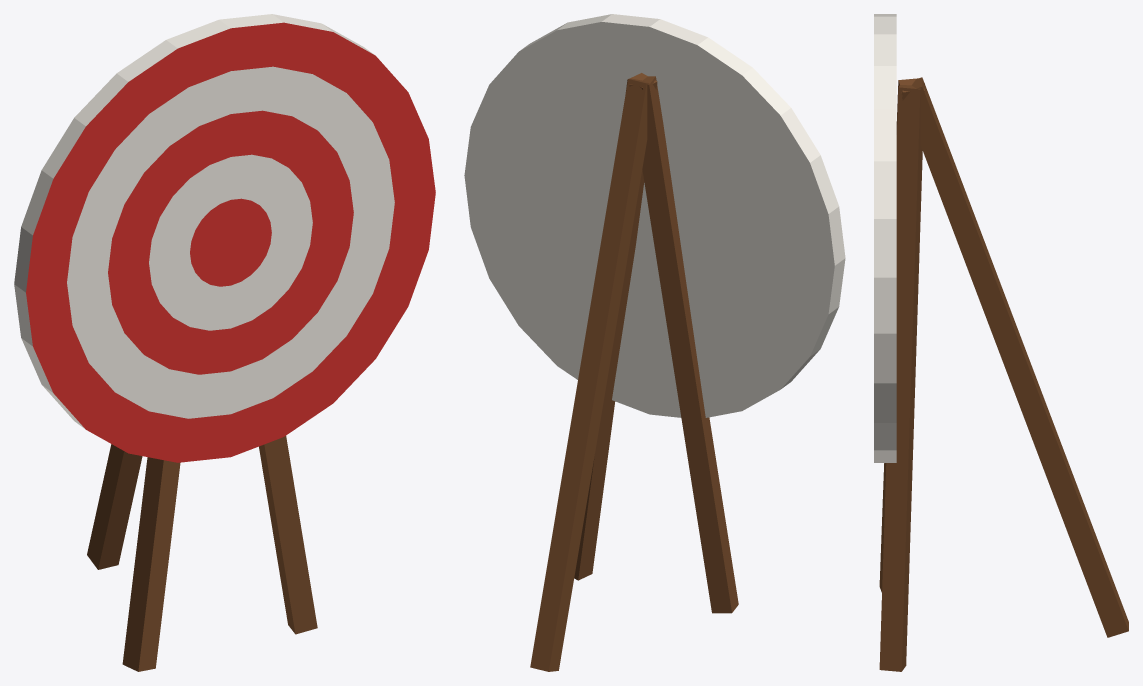
Rendered from vil_target_v01.glb.
The picture shows the model from 3 angles, left to right: view 1: azimuth 30°, elevation 25°; view 2: azimuth 150°, elevation 25°; view 3: azimuth 270°, elevation 25°; orthographic projection. The views are drawn at different scales.
Visible parts, largest first — view 1: target; view 2: target; view 3: target.
Boxes of the visible parts, x1,y1,x2,y2 form: target: (14,14,435,671); target: (464,14,845,671); target: (874,14,1128,671).
Size of the model in its own units: 1.2 by 1.76 by 0.6784.
